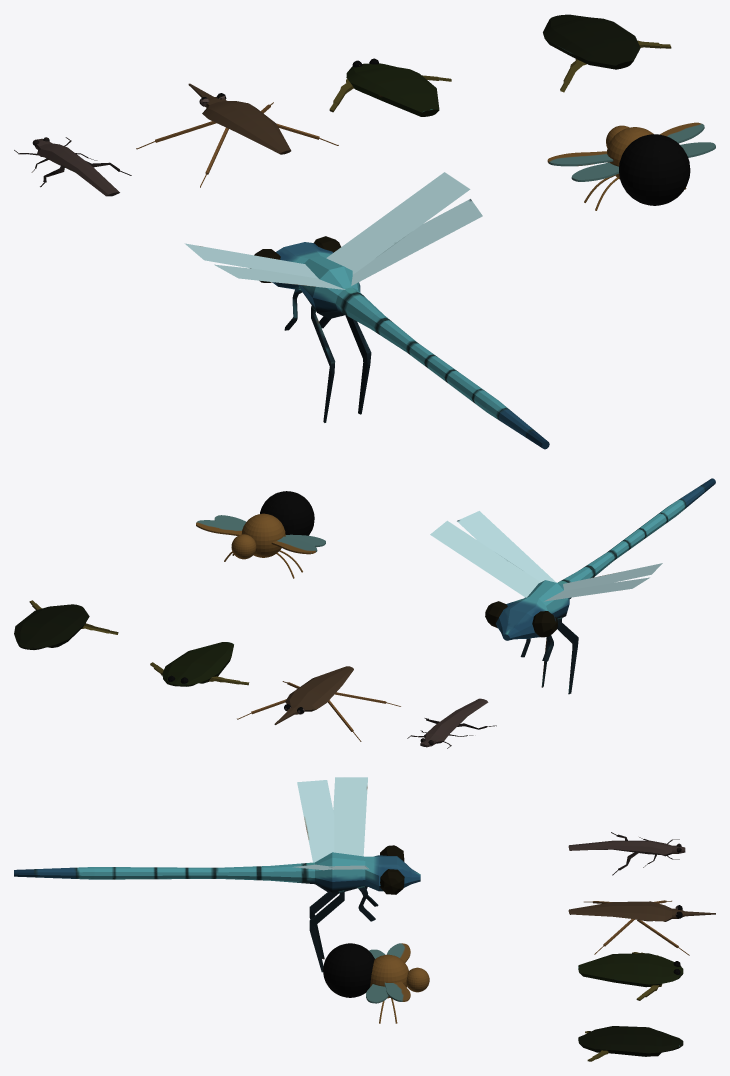
The model's file is insects.fbx.
3 views of the same model, one above another, from view 1: azimuth 30°, elevation 25°; view 2: azimuth 150°, elevation 25°; view 3: azimuth 270°, elevation 25° (orthographic). The views are drawn at different scales.
Parts seen in each view (by area): view 1: pPlane2, polySurface2, Sphere.039, pCylinder2.002, pCylinder2.001, pCylinder2, pCylinder2.003, Plane.030, Plane.031, Sphere.040, pCube5; view 2: pPlane2, polySurface2, pCylinder2.002, pCylinder2.001, pCylinder2, Sphere.039, Sphere.040, Plane.030, pCylinder2.003, pSphere2, pCube5, Sphere.041 (+1 smaller); view 3: polySurface2, pPlane2, pCylinder2.001, pCylinder2.002, Sphere.039, pCylinder2, pCylinder2.003, Sphere.040, Plane.030, pSphere1, Sphere.041.
Part boxes in pixels (x1,y1,x2,y2): pPlane2: [184, 172, 482, 289]; polySurface2: [272, 242, 549, 449]; Sphere.039: [619, 134, 690, 205]; pCylinder2.002: [543, 14, 640, 69]; pCylinder2.001: [346, 63, 439, 116]; pCylinder2: [188, 83, 291, 154]; pCylinder2.003: [35, 138, 119, 196]; Plane.030: [547, 122, 704, 166]; Plane.031: [571, 142, 715, 181]; Sphere.040: [607, 127, 653, 179]; pCube5: [136, 102, 338, 187]; pPlane2: [430, 511, 662, 601]; polySurface2: [496, 478, 715, 694]; pCylinder2.002: [14, 604, 89, 649]; pCylinder2.001: [162, 642, 233, 686]; pCylinder2: [274, 666, 353, 724]; Sphere.039: [260, 491, 314, 535]; Sphere.040: [241, 513, 285, 557]; Plane.030: [196, 520, 317, 554]; pCylinder2.003: [420, 698, 488, 747]; pSphere2: [532, 611, 557, 637]; pCube5: [237, 681, 400, 741]; Sphere.041: [231, 534, 256, 559]; polySurface2: [14, 852, 420, 972]; pPlane2: [292, 777, 369, 870]; pCylinder2.001: [578, 953, 683, 987]; pCylinder2.002: [578, 1026, 683, 1056]; Sphere.039: [323, 943, 374, 997]; pCylinder2: [568, 901, 715, 921]; pCylinder2.003: [568, 840, 685, 856]; Sphere.040: [370, 954, 408, 998]; Plane.030: [384, 943, 410, 1001]; pSphere1: [380, 869, 404, 894]; Sphere.041: [406, 967, 429, 992].
Size of the model in its own units: 13289 by 3828 by 16729.
